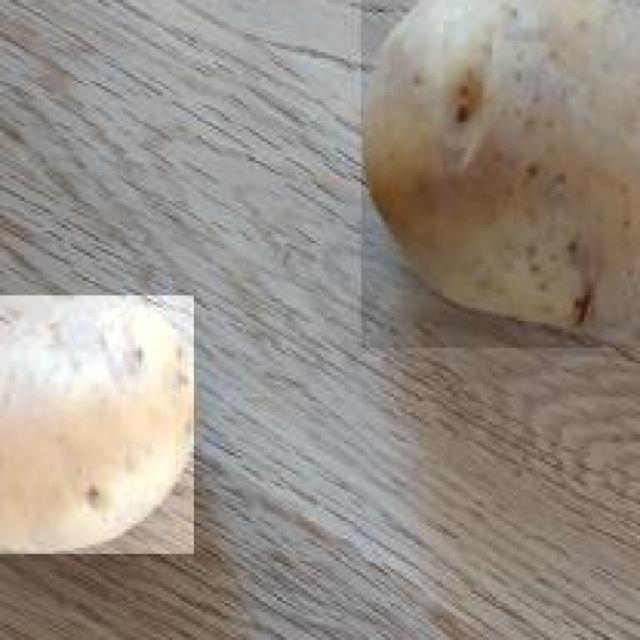potato: (360, 0, 640, 351), (0, 295, 197, 557)
